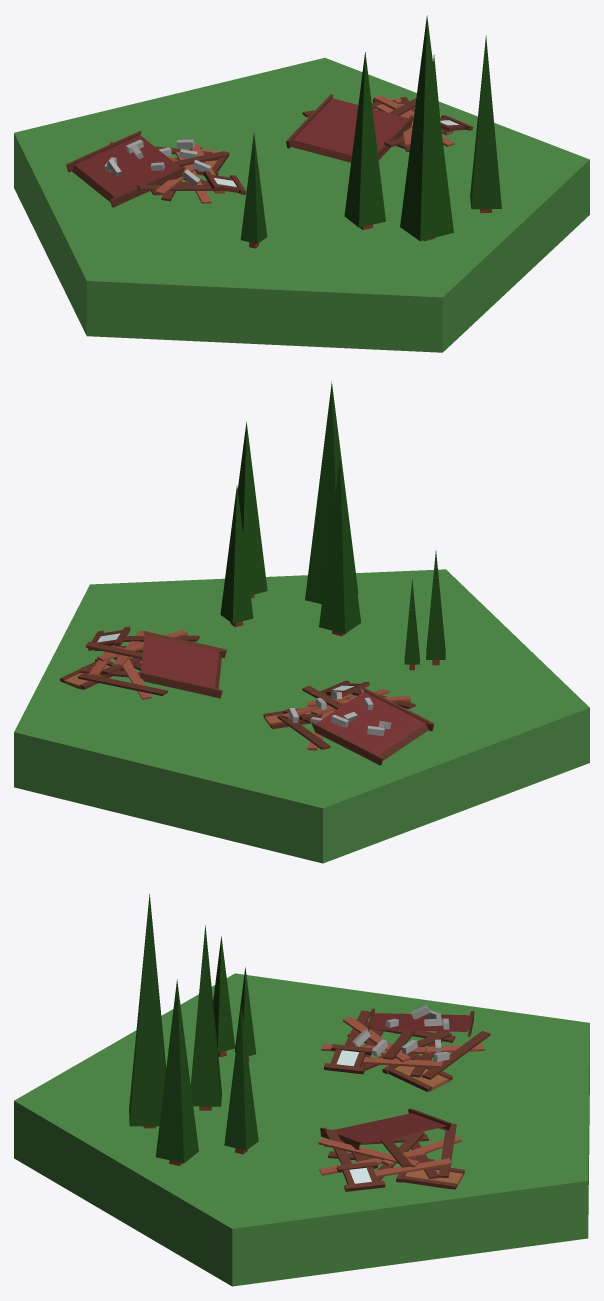
The model's file is Planet_VillageBroken_Pentagon.fbx.
The picture shows the model from 3 angles, top to bottom: view 1: azimuth 30°, elevation 25°; view 2: azimuth 150°, elevation 25°; view 3: azimuth 270°, elevation 25°; orthographic projection. The views are drawn at different scales.
Parts seen in each view (by area): view 1: polySurface10, pCube108 (×2), pCube44, pCube40, pCube41, pCube34; view 2: polySurface10, pCube108 (×2), pCube40, pCube44, pCube41, pCube37, pCube34, pCube36, pCube135; view 3: polySurface10, pCube44, pCube41, pCube108 (×2), pCube40, pCube37, pCube34, pCube140 (×2), pCube36, pCube135, pCube139.
Part boxes in pixels (x1,y1,x2,y2): polySurface10: (14,58,589,352); pCube108 (×2): (66,94,413,207); pCube44: (400,15,453,241); pCube40: (344,52,385,227); pCube41: (470,35,501,209); pCube34: (240,133,267,244); polySurface10: (14,569,589,863); pCube108 (×2): (139,631,434,765); pCube40: (319,457,361,633); pCube44: (305,381,358,603); pCube41: (237,421,267,595); pCube37: (220,485,253,623); pCube34: (426,551,445,659); pCube36: (404,579,419,664); pCube135: (78,673,167,695); polySurface10: (14,973,589,1286); pCube44: (129,894,166,1126); pCube41: (155,979,198,1163); pCube108 (×2): (320,1008,474,1149); pCube40: (190,925,221,1106); pCube37: (224,1006,258,1150); pCube34: (213,936,235,1052); pCube140 (×2): (362,1057,451,1177); pCube36: (234,967,256,1056); pCube135: (422,1031,490,1079); pCube139: (318,1138,418,1167).
Bounding box in the file's own units: 5.08 × 2.7 × 4.84.
